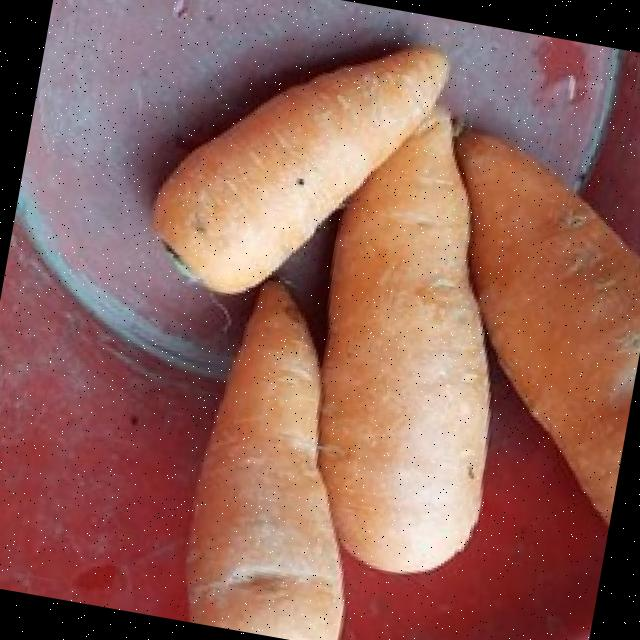carrot: (317, 107, 488, 572), (454, 131, 640, 523), (153, 46, 448, 293), (185, 281, 341, 640)
